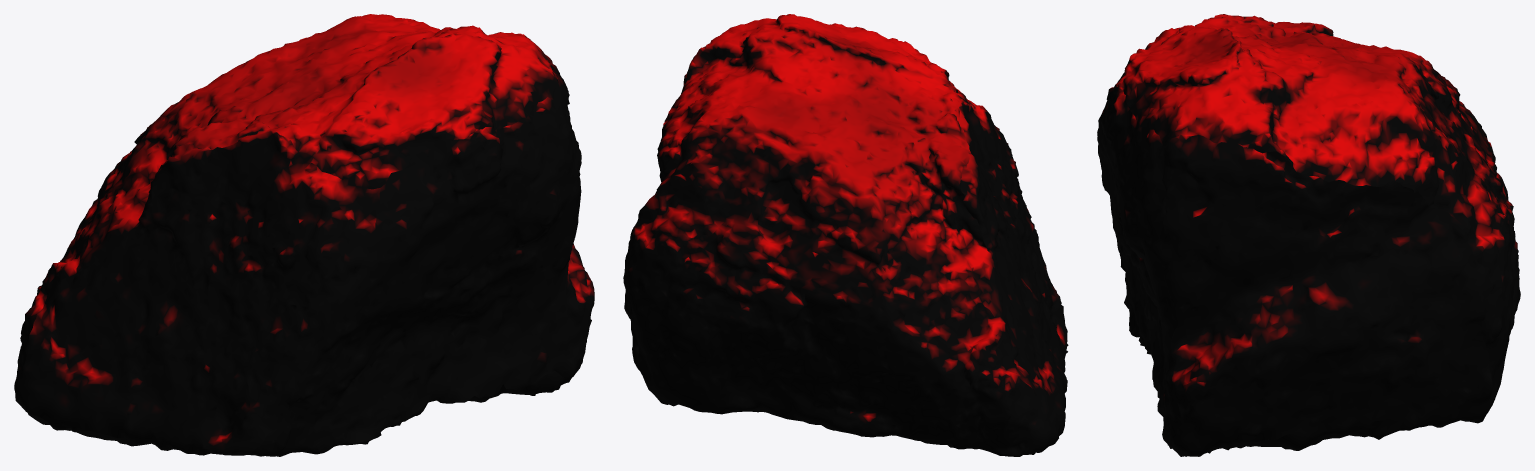
The model's file is SM_BoulderLargeMoss_03.fbx.
The picture shows the model from 3 angles, left to right: view 1: azimuth 30°, elevation 25°; view 2: azimuth 150°, elevation 25°; view 3: azimuth 270°, elevation 25°; orthographic projection. The views are drawn at different scales.
Visible parts, largest first — view 1: SM_BoulderLargeMoss_03; view 2: SM_BoulderLargeMoss_03; view 3: SM_BoulderLargeMoss_03.
Boxes of the visible parts, left/top/right/bottom form: SM_BoulderLargeMoss_03: left=14, top=14, right=594, bottom=456; SM_BoulderLargeMoss_03: left=623, top=14, right=1068, bottom=456; SM_BoulderLargeMoss_03: left=1097, top=14, right=1520, bottom=456.
Size of the model in its own units: 230 by 172 by 162.
